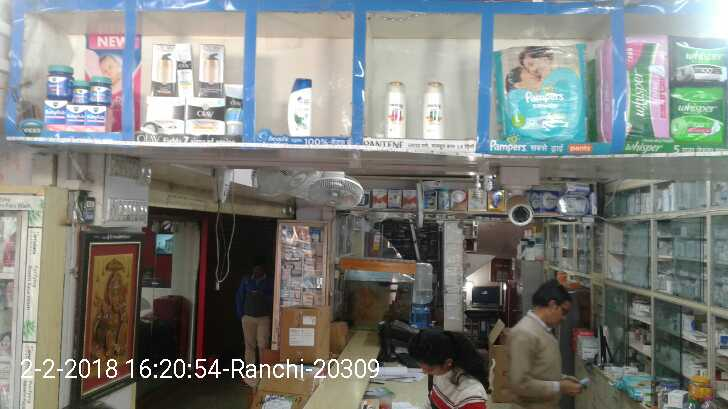vicks: (42, 63, 104, 129)
